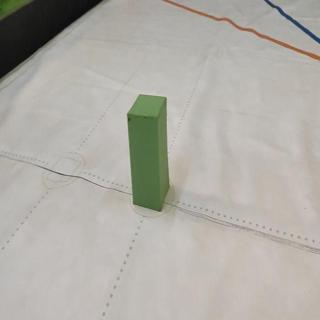greenbox: (127, 94, 171, 212)
